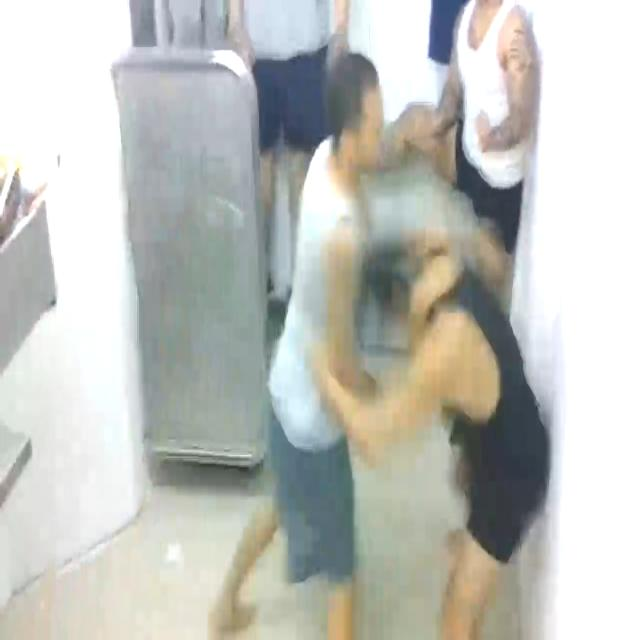fight: (252, 47, 549, 640)
